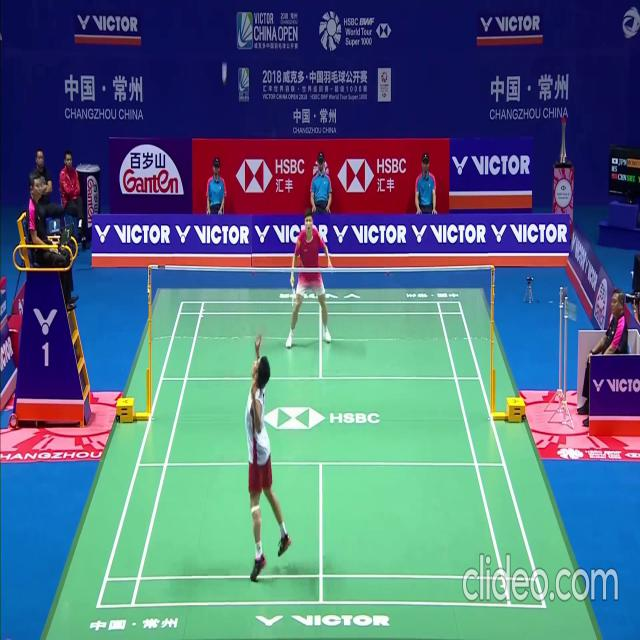Shuttlecock: (223, 75, 227, 83)
